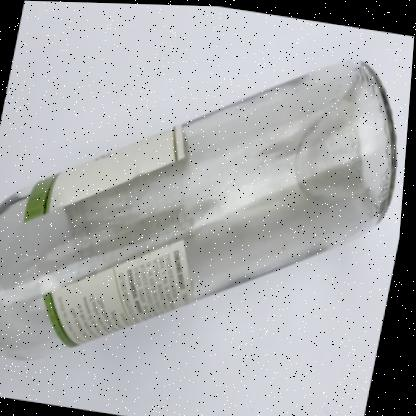Glass: (0, 60, 398, 359)
